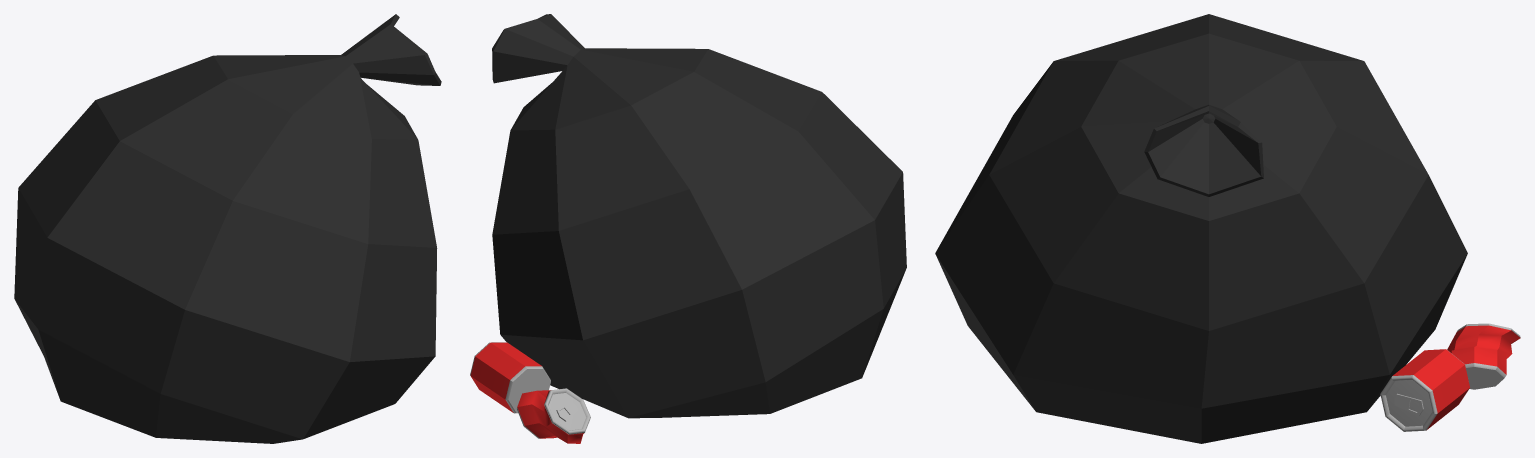
The model's file is Trash.fbx.
3 views of the same model, side by side, from view 1: azimuth 30°, elevation 25°; view 2: azimuth 150°, elevation 25°; view 3: azimuth 270°, elevation 25° (orthographic). The views are drawn at different scales.
Visible parts, largest first — view 1: Trash; view 2: Trash; view 3: Trash.
Part boxes in pixels (x1=…): Trash: x1=14, y1=14, x2=441, y2=443; Trash: x1=470, y1=14, x2=906, y2=443; Trash: x1=935, y1=14, x2=1520, y2=443.
Bounding box in the file's own units: 1.99 × 1.61 × 2.31.
